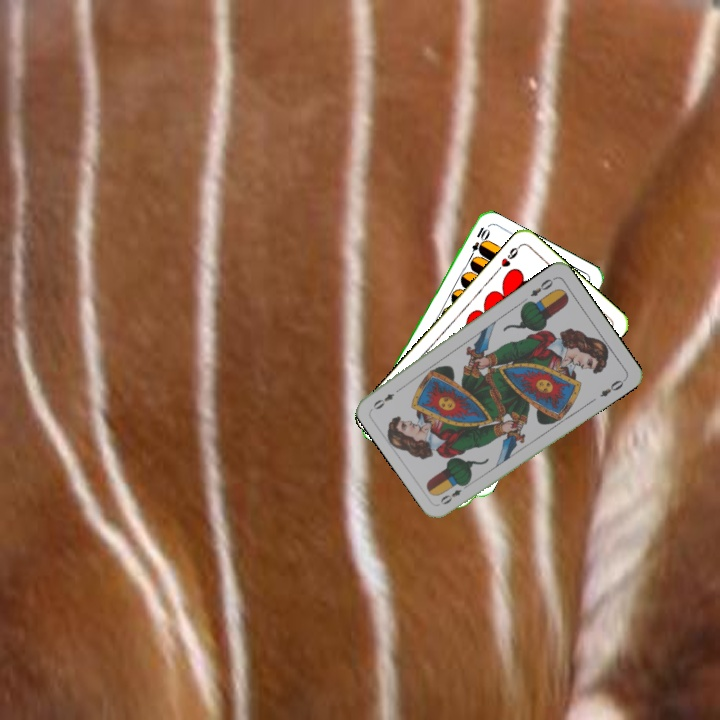E10: (465, 223, 490, 261)
EO: (436, 479, 472, 507), (526, 275, 556, 299)
H9: (492, 241, 523, 275)
